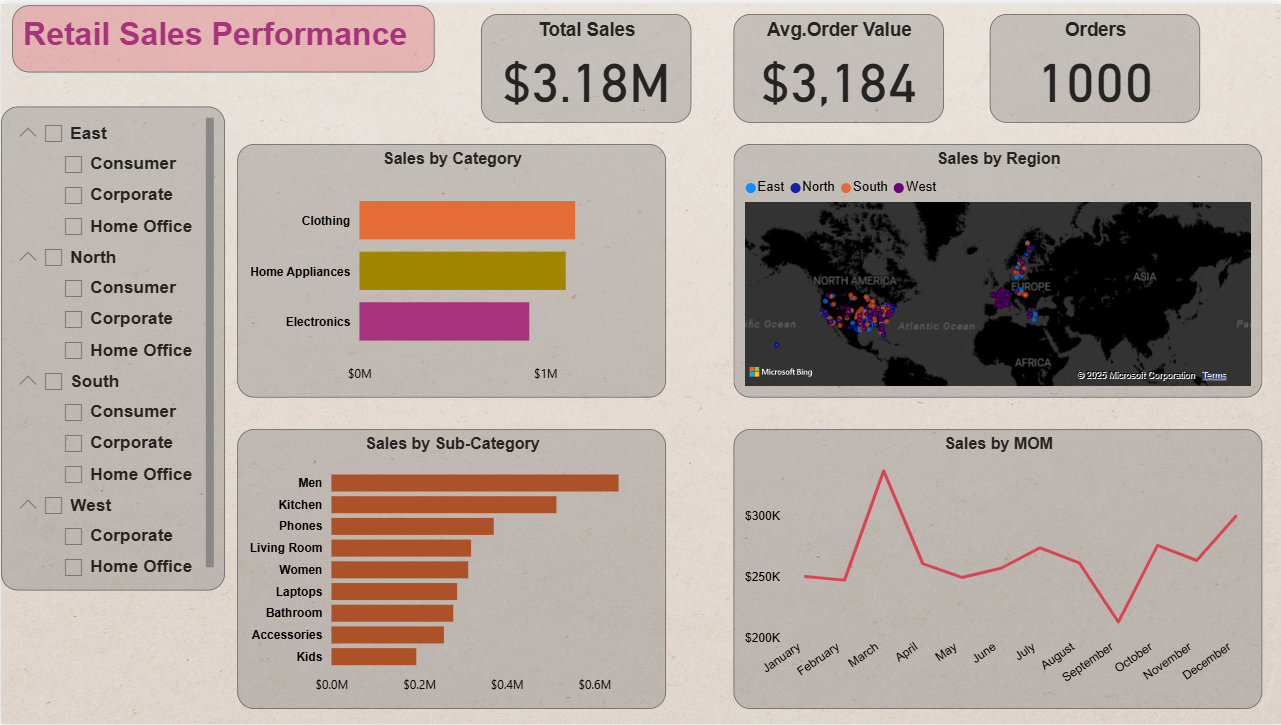

The dashboard page shown, as its layout file describes it:
{"tool":"powerbi","page":{"name":"Page 1","canvas":[1280,720],"ordinal":0},"visuals":[{"type":"barChart","title":"Sales by Category","fields":{"Category":["Products.Category"],"Y":["Sum(Sales.SalesAmount)"]},"box":[236.2,140,428.8,253.8],"z":0},{"type":"clusteredBarChart","title":"Sales by Sub-Category","fields":{"Category":["Products.Sub-Category"],"Y":["Sum(Sales.SalesAmount)"]},"box":[236.2,425,428.8,280],"z":1},{"type":"lineChart","title":"Sales by MOM","fields":{"Category":["Calendar.Date.Variation.Date Hierarchy.Month"],"Y":["Sum(Sales.SalesAmount)"]},"box":[732.5,425,528.8,280],"z":2},{"type":"map","title":"Sales by Region","fields":{"Category":["Sales.SalesAmount"],"Series":["Sales.Region"]},"box":[732.5,140,528.8,253.8],"z":3},{"type":"card","title":"Total Sales","fields":{"Values":["Products.Total_Sales"]},"box":[480,10,210,108.8],"z":5},{"type":"card","title":"Avg.Order Value","fields":{"Values":["Products.Avg_ordervalue"]},"box":[732.5,10,210,108.8],"z":6},{"type":"card","title":"Orders","fields":{"Values":["Products.Total_Orders"]},"box":[988.8,10,210,108.8],"z":7},{"type":"slicer","fields":{"Values":["Sales.Region","Customers.Segment"]},"box":[0,102.5,223.8,483.8],"z":8},{"type":"textbox","box":[11.2,1.2,422.5,67.5],"z":9}]}

Visuals, with their boxes in screenshot pixels (x1, y1, x2, y2), scaled from the page's 1280x720 canvas onto the 1281x725 screenshot:
"Sales by Category" barChart: detection(236, 141, 666, 397)
"Sales by Sub-Category" clusteredBarChart: detection(236, 428, 666, 710)
"Sales by MOM" lineChart: detection(733, 428, 1262, 710)
"Sales by Region" map: detection(733, 141, 1262, 397)
"Total Sales" card: detection(480, 10, 691, 120)
"Avg.Order Value" card: detection(733, 10, 943, 120)
"Orders" card: detection(990, 10, 1200, 120)
slicer - Sales.Region x Customers.Segment: detection(0, 103, 224, 590)
textbox: detection(11, 1, 434, 69)
